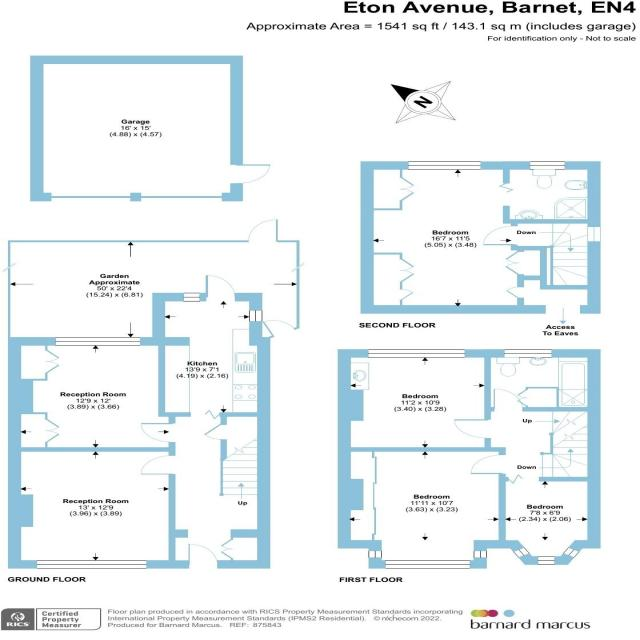DOOR: (204, 274, 236, 302), (187, 543, 219, 569), (453, 418, 492, 439), (469, 453, 506, 474), (139, 422, 176, 443), (140, 454, 176, 475), (483, 224, 518, 245), (587, 225, 602, 242)
ROOM: (360, 161, 520, 314), (337, 447, 506, 569), (8, 447, 176, 569), (8, 336, 176, 452), (152, 274, 270, 417), (338, 349, 492, 452), (498, 476, 601, 565)
WINDOW: (34, 559, 149, 569), (367, 348, 467, 358), (53, 336, 143, 347), (383, 559, 471, 569), (407, 161, 482, 170), (503, 348, 553, 358), (529, 161, 566, 170), (561, 546, 581, 560), (511, 546, 532, 559), (534, 556, 556, 565), (182, 292, 201, 302), (249, 308, 262, 322), (367, 549, 383, 558), (473, 550, 488, 559)
